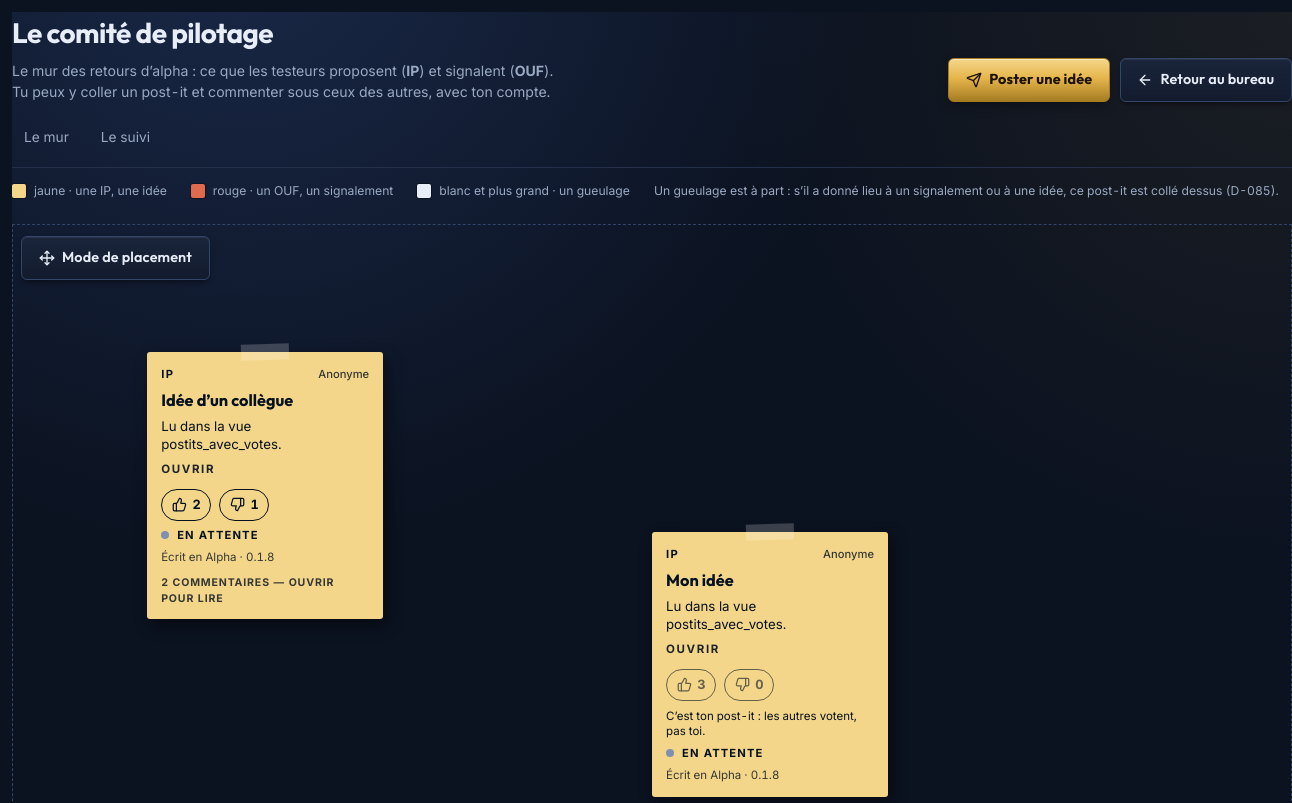
Test case: le fil d’un post-it (#138) › se lit sous son post-it, du plus ancien au plus récent, signé et daté
Expected: the text "Idée d’un collègue" is shown, [161,390,293,410]
Expected: the text "2 commentaires — ouvrir pour lire" is shown, [161,576,334,605]
Click the button with aria-label "Agrandir le post-it « Idée d’un collègue »" at {"x": 265, "y": 422}, box [161,366,369,479]
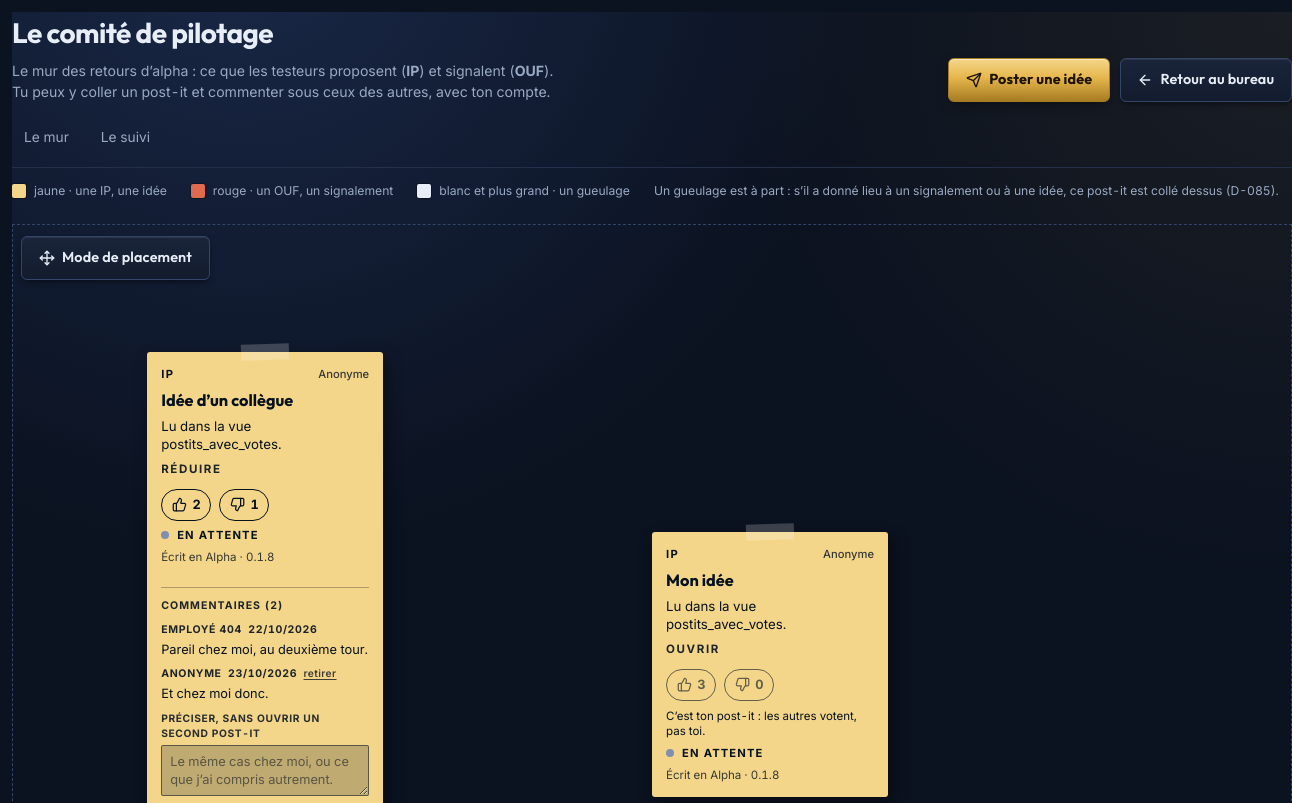
Expected: the list item "Anonyme 23/10/2026 retirer Et chez moi donc." does not show "Employé 404", [161,666,336,701]
Expected: the list item "Employé 404 22/10/2026 Pareil chez moi, au deuxième tour." is shown, [161,622,369,658]
Expected: the list item "Anonyme 23/10/2026 retirer Et chez moi donc." is shown, [161,666,336,701]
